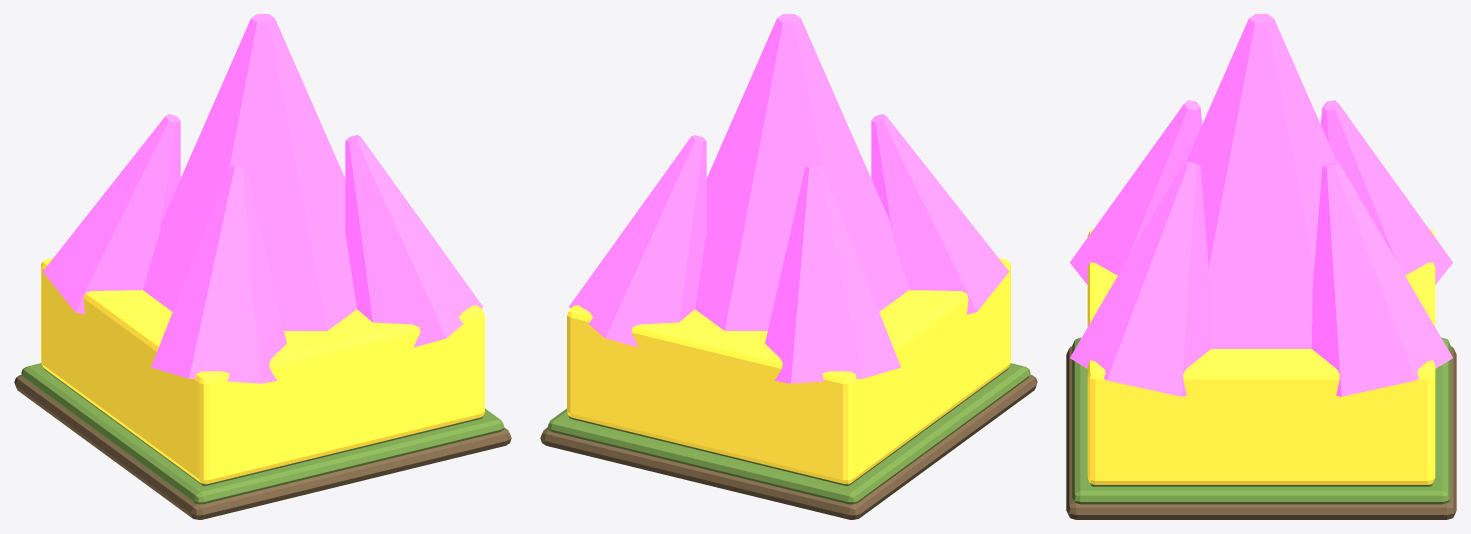
The model's file is wall_lv6.glb.
3 views of the same model, side by side, from view 1: azimuth 30°, elevation 25°; view 2: azimuth 150°, elevation 25°; view 3: azimuth 270°, elevation 25° (orthographic). The views are drawn at different scales.
Visible parts, largest first — view 1: CrystalWallBase, MainCrystalSpire, SideCrystal_-1_-1, SideCrystal_1_-1, SideCrystal_-1_1, Base_Grass, Base_Dirt, Base_Inner; view 2: CrystalWallBase, MainCrystalSpire, SideCrystal_-1_1, SideCrystal_1_1, SideCrystal_-1_-1, Base_Grass, Base_Dirt, Base_Inner; view 3: CrystalWallBase, MainCrystalSpire, SideCrystal_1_1, SideCrystal_1_-1, Base_Grass, Base_Dirt, SideCrystal_-1_1, SideCrystal_-1_-1, Base_Inner.
Boxes of the visible parts, x1=… form: CrystalWallBase: x1=41, y1=258, x2=484, y2=483; MainCrystalSpire: x1=143, y1=14, x2=356, y2=330; SideCrystal_-1_-1: x1=151, y1=165, x2=286, y2=383; SideCrystal_1_-1: x1=345, y1=135, x2=482, y2=347; SideCrystal_-1_1: x1=43, y1=114, x2=180, y2=314; Base_Grass: x1=21, y1=363, x2=504, y2=504; Base_Dirt: x1=14, y1=374, x2=511, y2=519; Base_Inner: x1=42, y1=366, x2=483, y2=485; CrystalWallBase: x1=567, y1=258, x2=1010, y2=483; MainCrystalSpire: x1=695, y1=14, x2=908, y2=330; SideCrystal_-1_1: x1=765, y1=165, x2=900, y2=383; SideCrystal_1_1: x1=569, y1=135, x2=706, y2=347; SideCrystal_-1_-1: x1=871, y1=114, x2=1008, y2=314; Base_Grass: x1=547, y1=363, x2=1030, y2=504; Base_Dirt: x1=540, y1=374, x2=1037, y2=519; Base_Inner: x1=568, y1=366, x2=1009, y2=485; CrystalWallBase: x1=1087, y1=229, x2=1435, y2=484; MainCrystalSpire: x1=1186, y1=14, x2=1336, y2=348; SideCrystal_1_1: x1=1311, y1=162, x2=1452, y2=396; SideCrystal_1_-1: x1=1070, y1=162, x2=1211, y2=396; Base_Grass: x1=1072, y1=337, x2=1450, y2=504; Base_Dirt: x1=1066, y1=346, x2=1456, y2=519; SideCrystal_-1_1: x1=1320, y1=100, x2=1452, y2=284; SideCrystal_-1_-1: x1=1070, y1=100, x2=1202, y2=284; Base_Inner: x1=1090, y1=483, x2=1432, y2=486.
Size of the model in its own units: 0.92 by 1.1 by 0.92.
